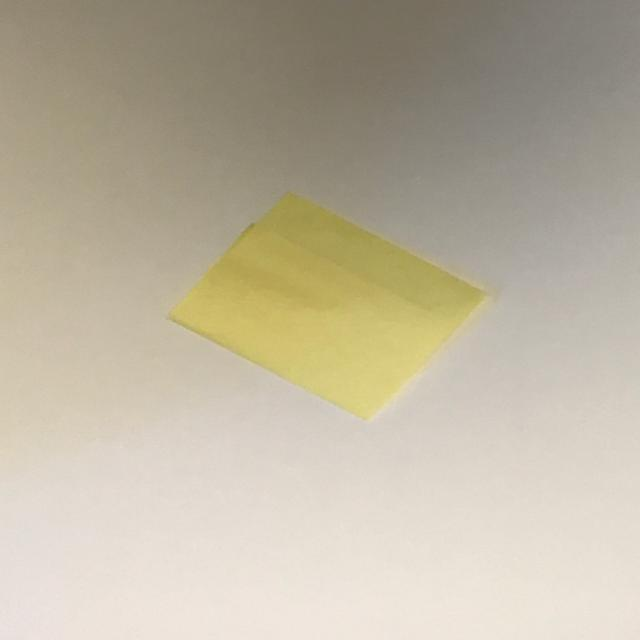Paper: (132, 176, 514, 464)
